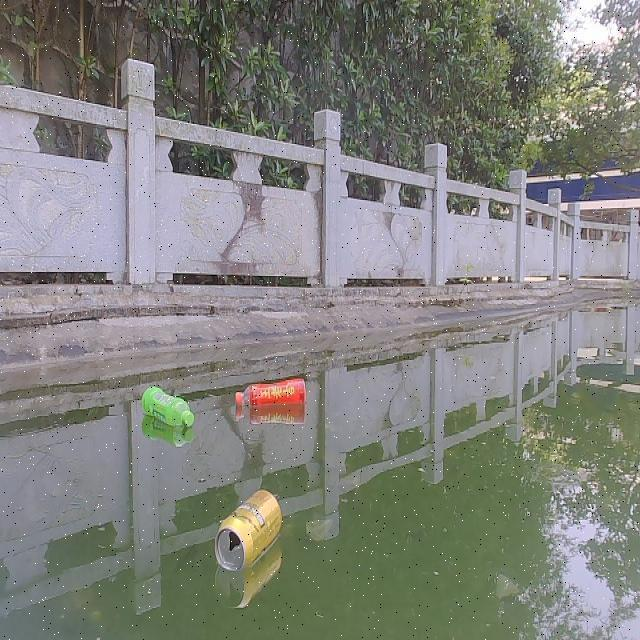Bottle: (226, 371, 314, 421), (135, 381, 199, 438)
Can: (208, 486, 289, 578)
